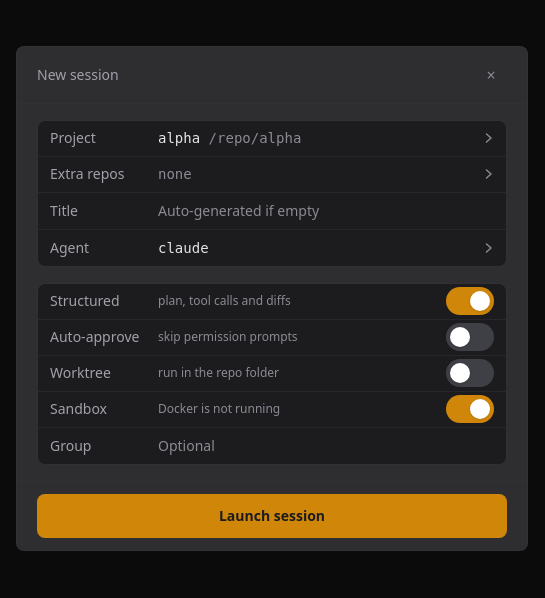
Test: project sandbox override on the remembered last-used path › refuses to submit a seeded sandbox while Docker is unavailable
The image size is (545, 598).
Click the button "Launch session" at (272, 516), box [37, 494, 507, 538]
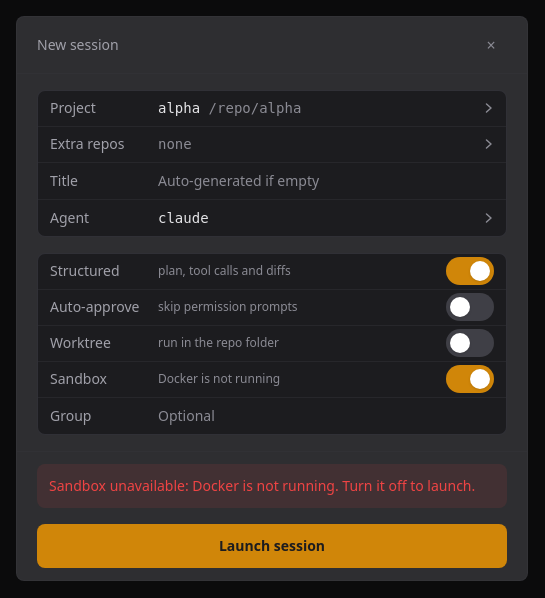
Now the text "Sandbox unavailable: Docker is not running" is shown, box [49, 476, 475, 494]
